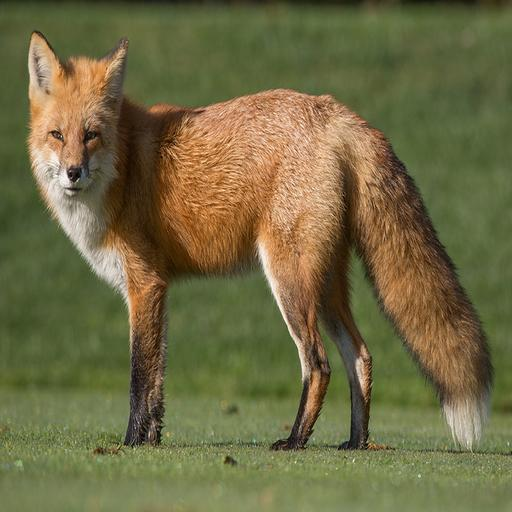Fox: (18, 29, 500, 459)
